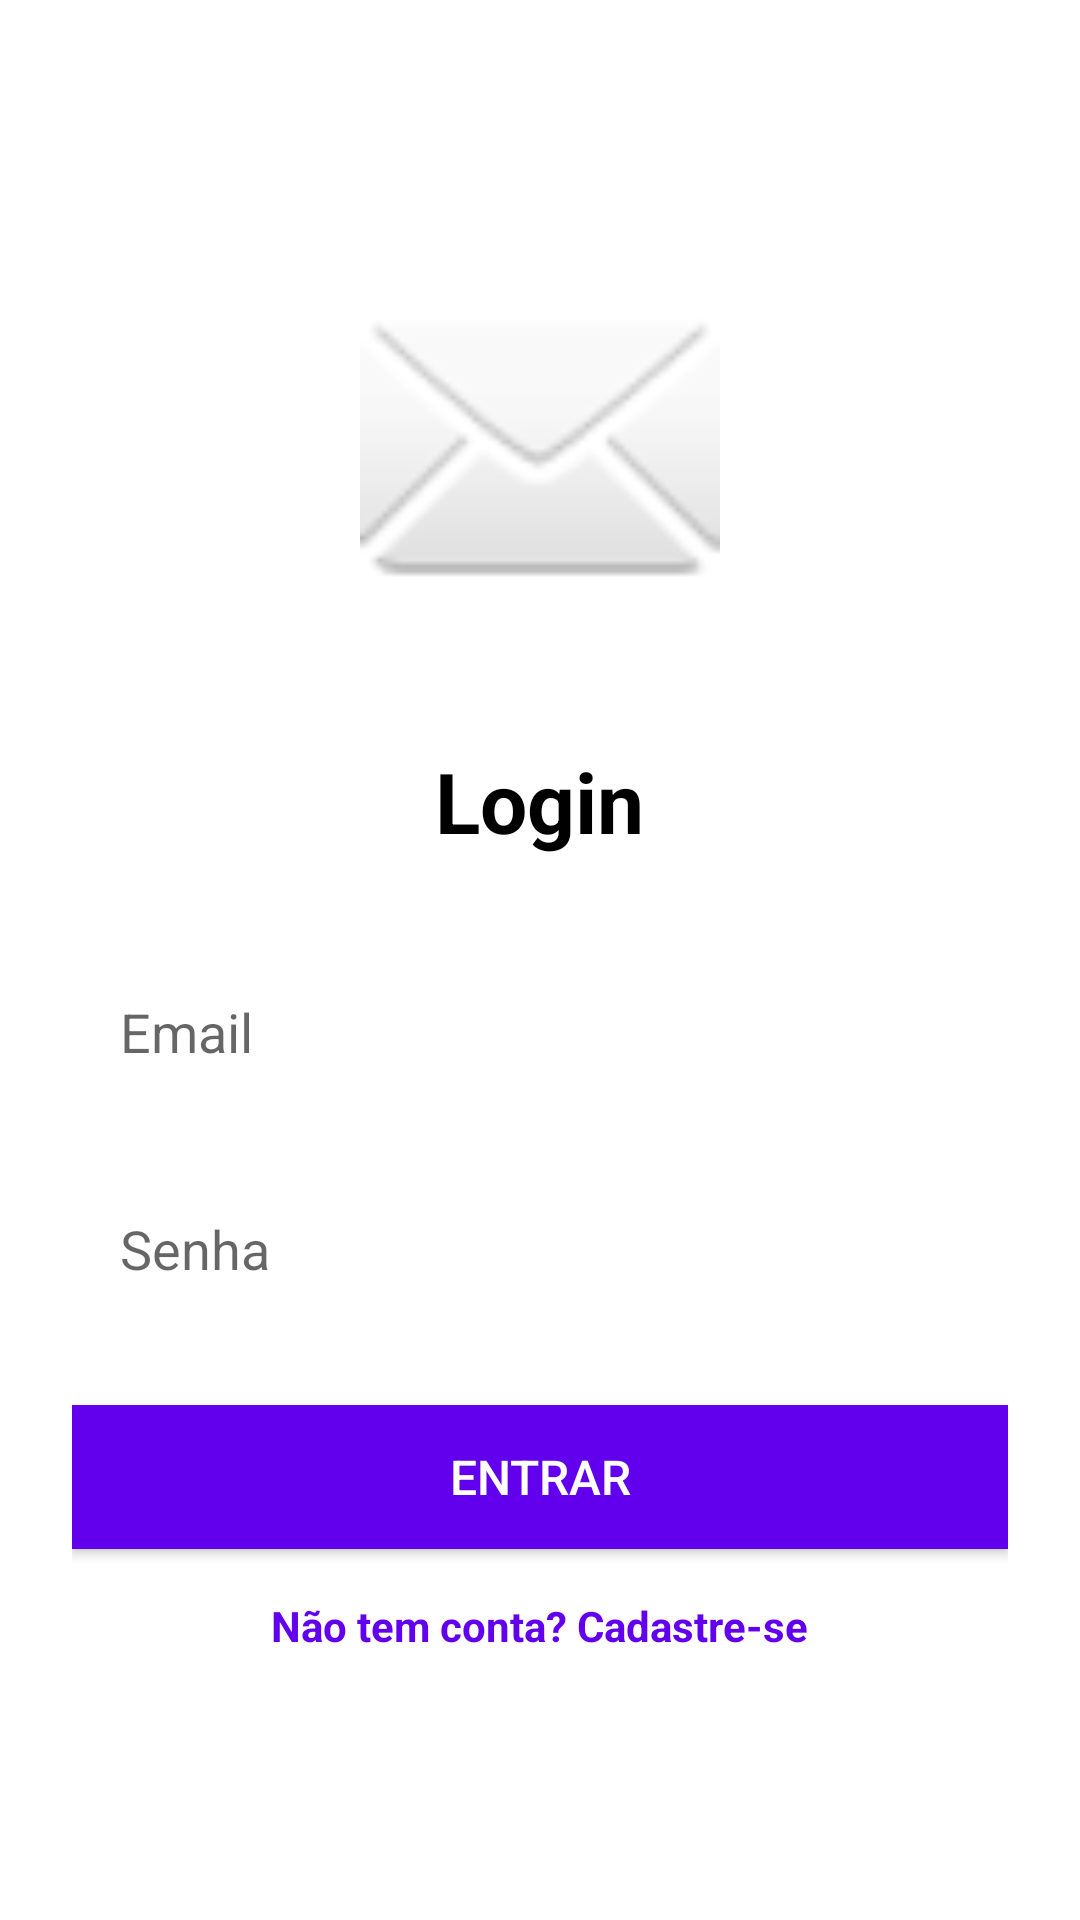

Where icons sit on this 1080x1920 app screen, as (x1, y1, x2, y2):
email: (360, 328, 720, 575)
